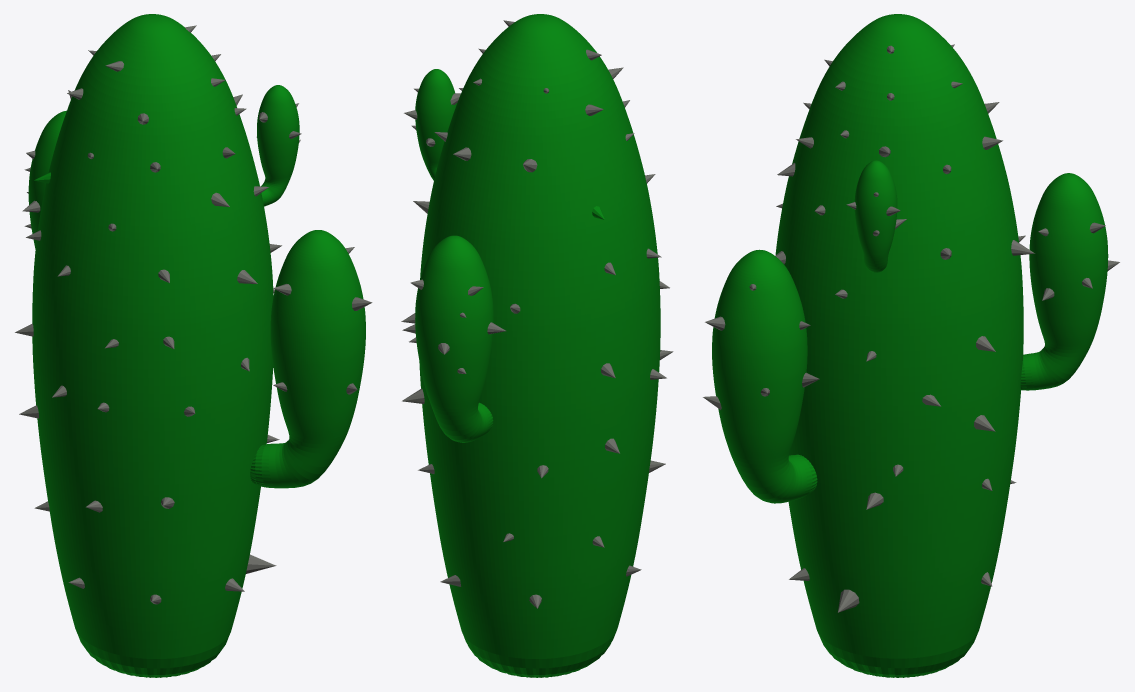
Rendered from Kaktus02.fbx.
3 renders of one model, left to right at view 1: azimuth 30°, elevation 25°; view 2: azimuth 150°, elevation 25°; view 3: azimuth 270°, elevation 25°, orthographic.
Visible parts, largest first — view 1: kaktus1; view 2: kaktus1; view 3: kaktus1.
Part boxes in pixels (<box>): kaktus1: <box>15,14,372,677</box>; kaktus1: <box>401,14,673,677</box>; kaktus1: <box>703,14,1119,677</box>.
Size of the model in its own units: 190 by 448 by 263.
